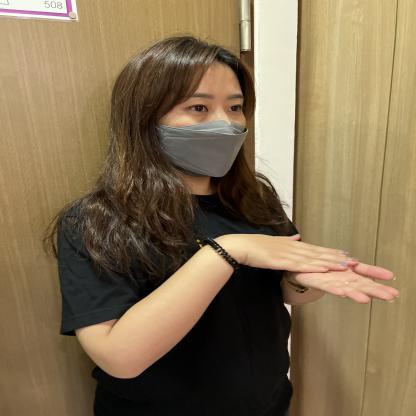Love: (150, 203, 416, 325)
